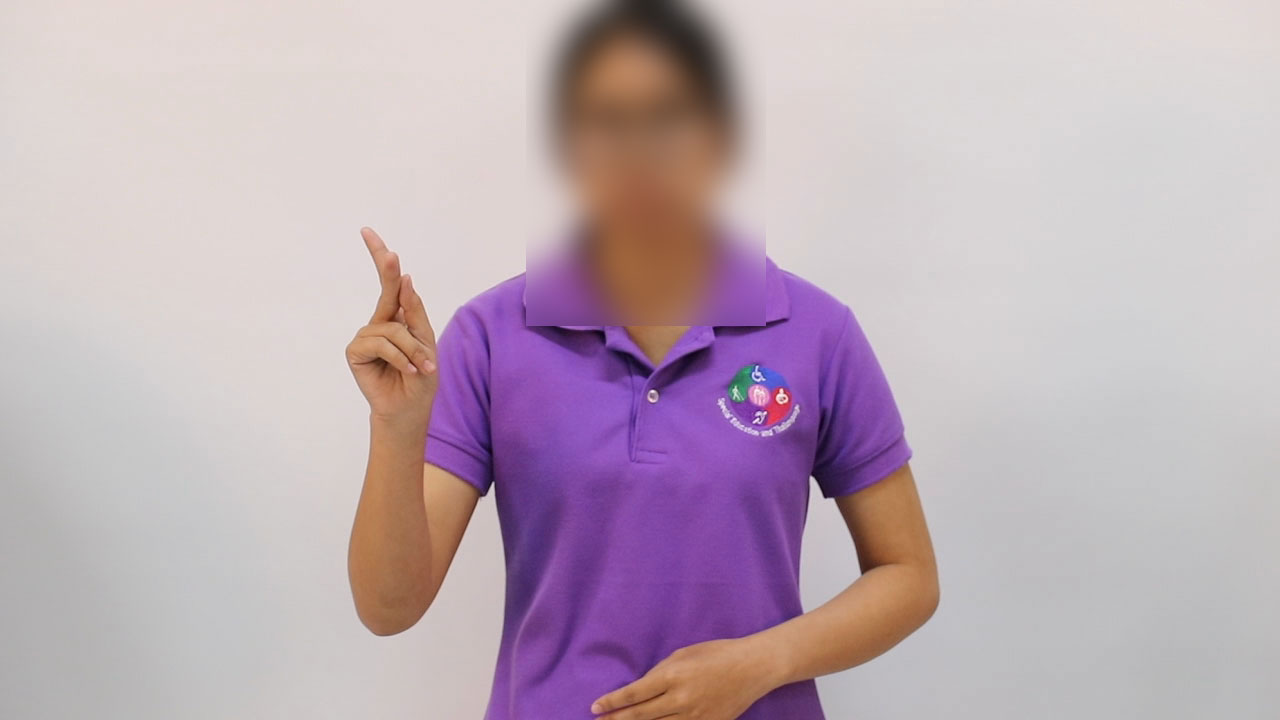ko: (321, 220, 448, 425)
